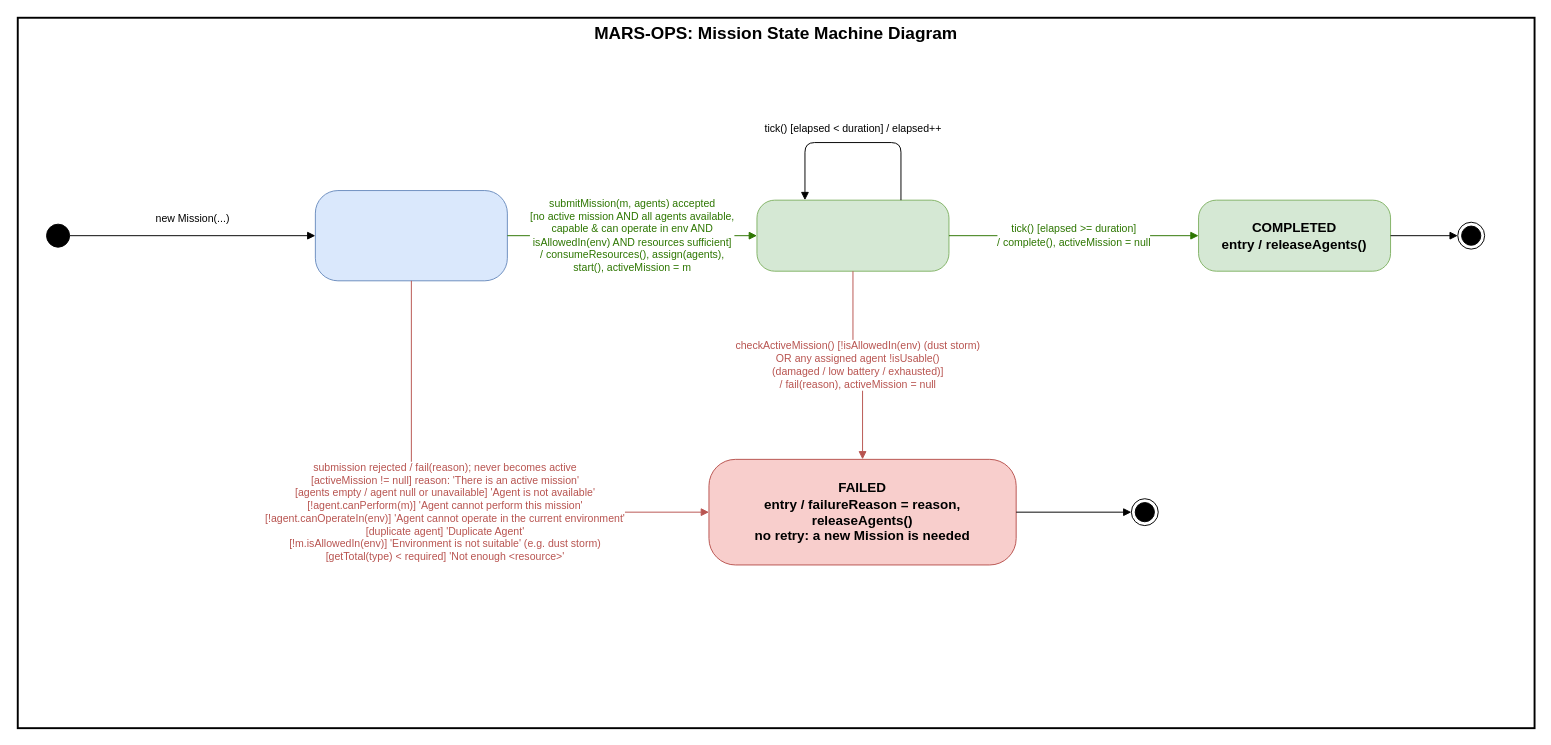
Image size: 1551x745. Some labels were removed from this diagram. The centre of each missing label's shape, as x and y in pixels:
"ASSIGNED entry / state = ASSIGNED, elapsed = 0" goes at (x=410, y=235).
"IN_PROGRESS do / count duration" goes at (x=852, y=235).
